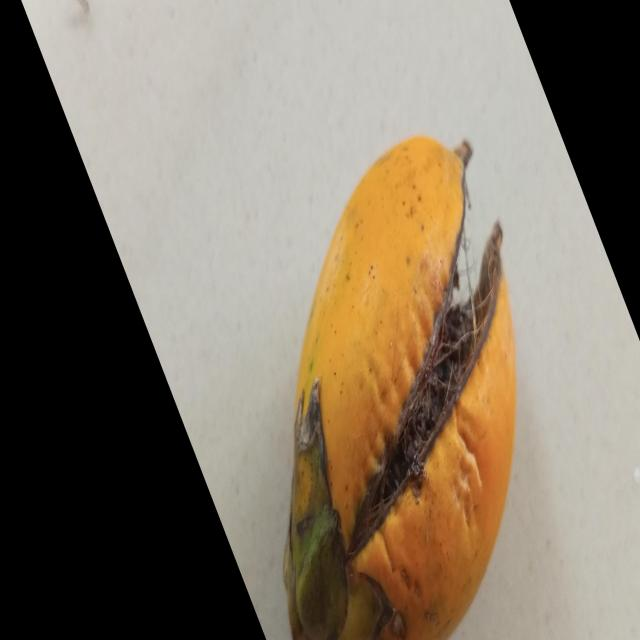damaged: (285, 136, 517, 640)
